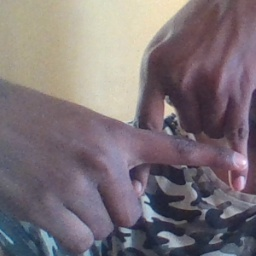H: (105, 66, 252, 209)
